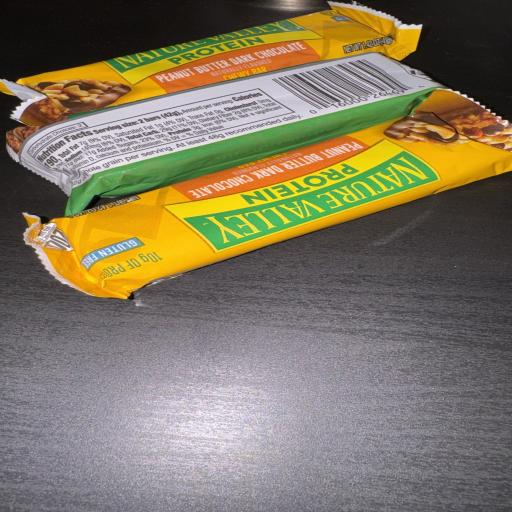granola: (25, 90, 511, 298), (8, 53, 441, 214), (0, 3, 420, 126)
